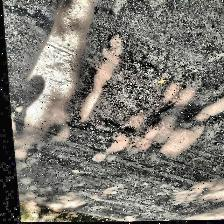pothole: (56, 38, 194, 140)
